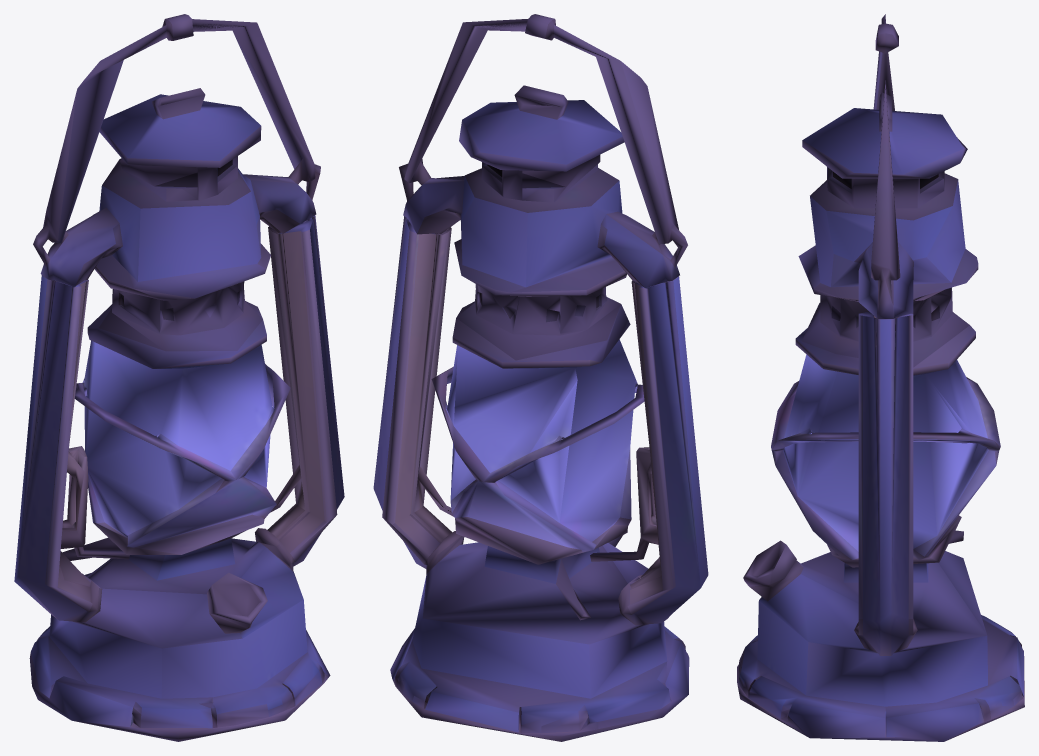
Rendered from model.progressive.glb.
The picture shows the model from 3 angles, left to right: view 1: azimuth 30°, elevation 25°; view 2: azimuth 150°, elevation 25°; view 3: azimuth 270°, elevation 25°; orthographic projection.
Parts seen in each view (by area): view 1: material; view 2: material; view 3: material.
Boxes of the visible parts, left/top/right/bottom form: material: left=14, top=14, right=344, bottom=741; material: left=373, top=14, right=708, bottom=741; material: left=737, top=14, right=1024, bottom=741.
Size of the model in its own units: 0.9822 by 1.89 by 0.7499.
Materials: 1 (1 with a texture image).
